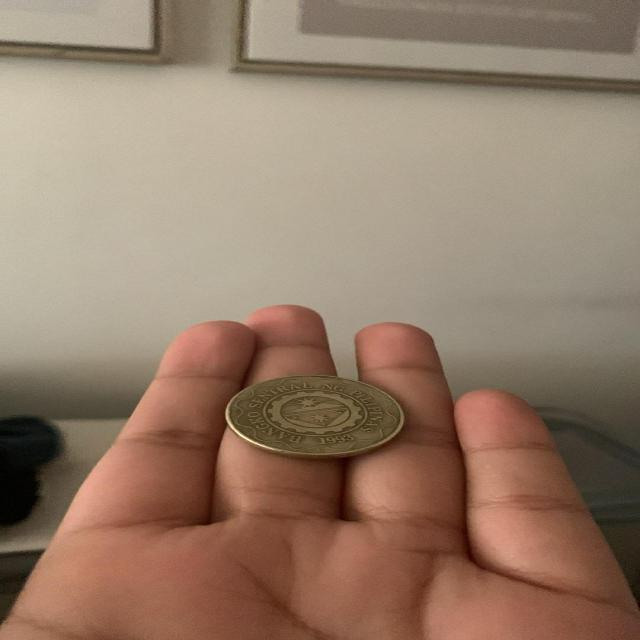5 peso-old: (210, 363, 415, 460)
